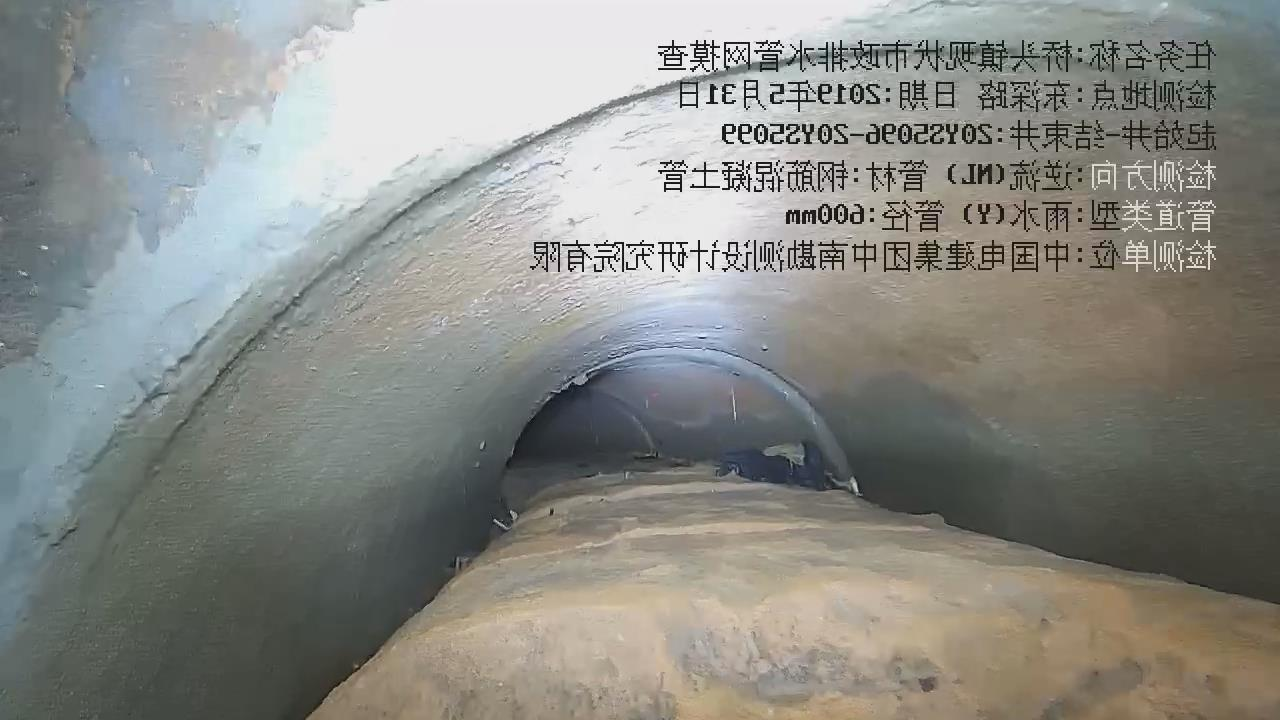CKTJ: (552, 348, 861, 494)
JG: (308, 462, 1280, 719)
